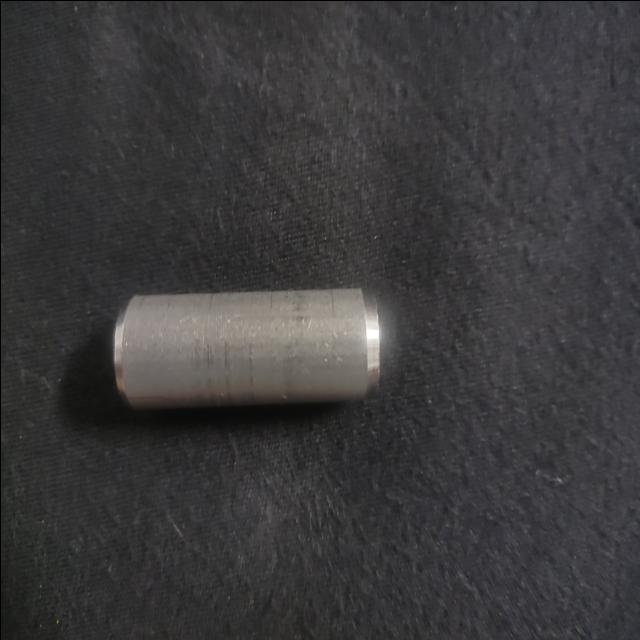Broken: (111, 282, 381, 416)
